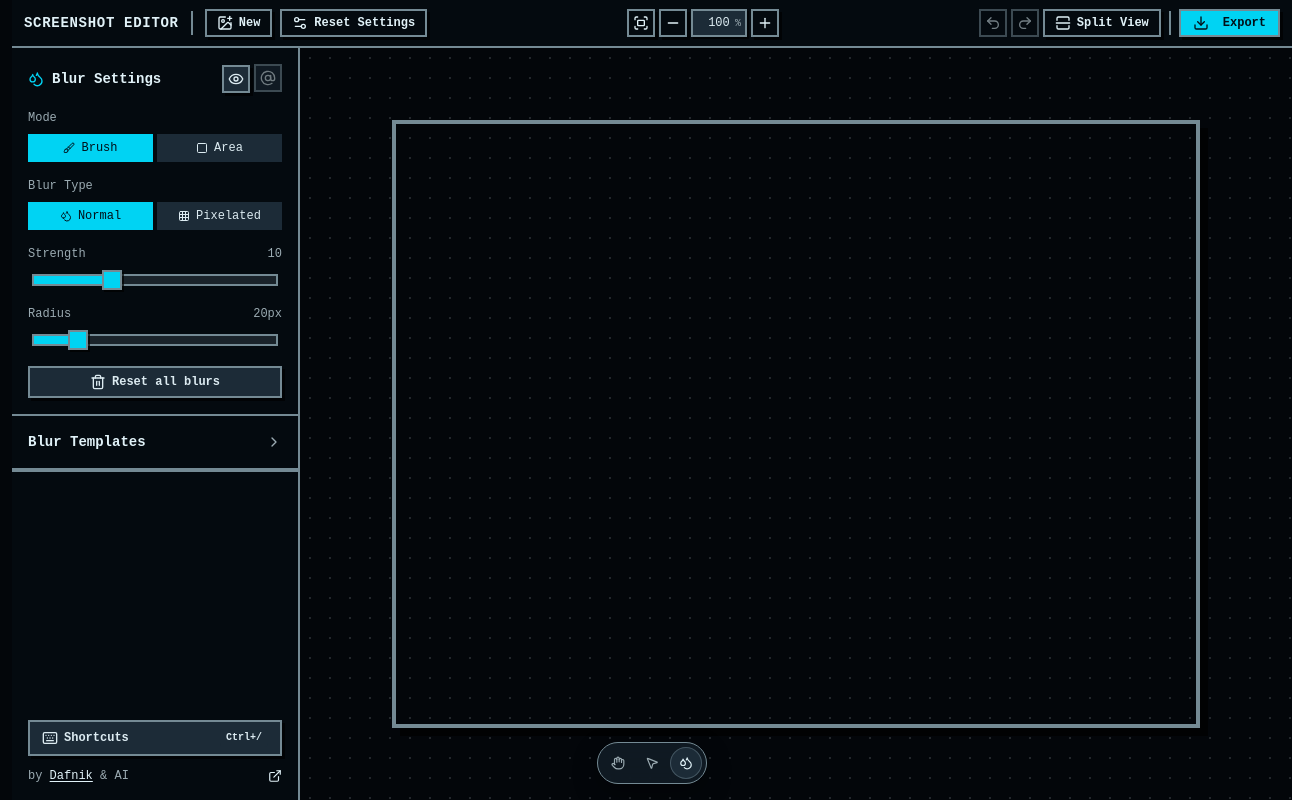
Test: EditorSidebar shortcut tooltips › shows mode tooltip on mode label
Hover over the text "Mode".
mouse_move(42, 118)  # box [28,110,57,126]
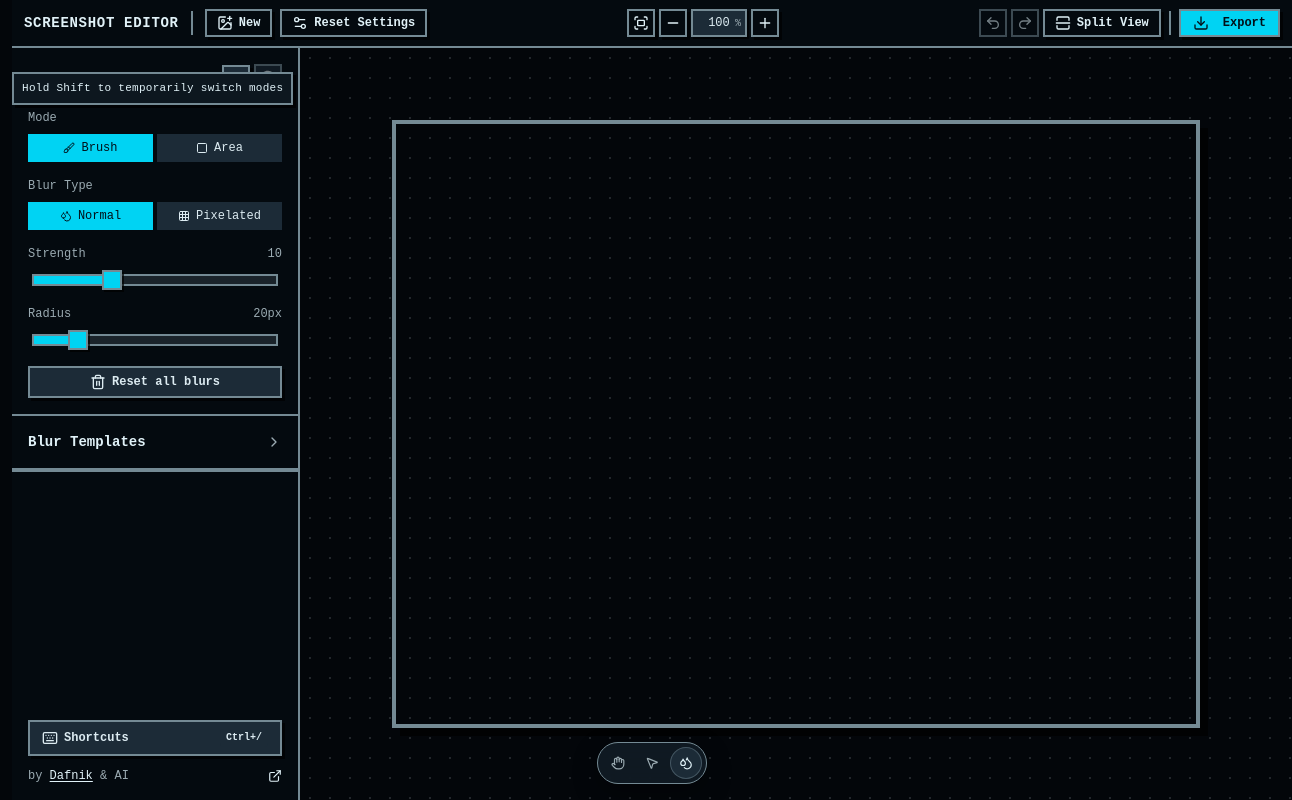
Now the tooltip "Hold Shift to temporarily switch modes" is shown, box [12,72,293,104]
